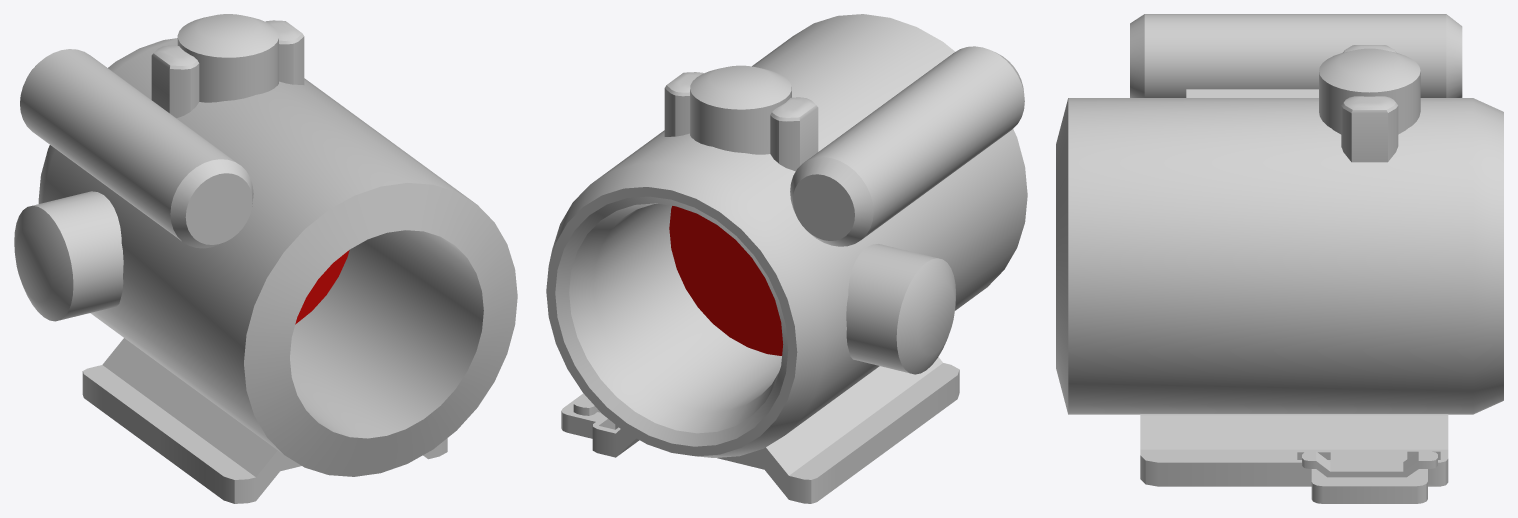
Rendered from scopex2.fbx.
3 views of the same model, side by side, from view 1: azimuth 30°, elevation 25°; view 2: azimuth 150°, elevation 25°; view 3: azimuth 270°, elevation 25° (orthographic).
Visible parts, largest first — view 1: Cube; view 2: Cube; view 3: Cube.
Part boxes in pixels (<box>): Cube: <box>14,14,517,503</box>; Cube: <box>546,14,1027,503</box>; Cube: <box>1056,14,1503,503</box>.
Size of the model in its own units: 8.1 by 8.2 by 9.
